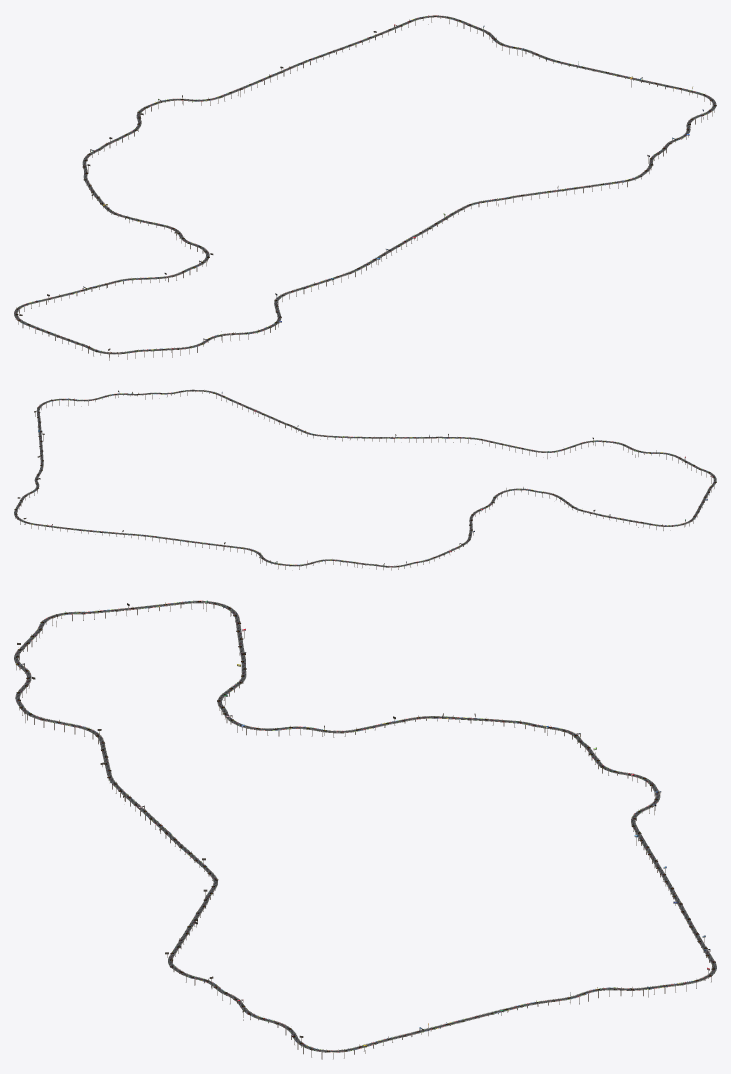
The model's file is track.glb.
The picture shows the model from 3 angles, top to bottom: view 1: azimuth 30°, elevation 25°; view 2: azimuth 150°, elevation 25°; view 3: azimuth 270°, elevation 25°; orthographic projection. The views are drawn at different scales.
Parts seen in each view (by area): view 1: track_surface, track_barriers, pylons, track_under, tubes_lamps; view 2: track_surface, track_barriers, pylons, track_under, tubes_lamps, fittings; view 3: track_surface, track_barriers, tubes_lamps, pylons, track_under, fittings.
Part boxes in pixels (x1,y1,x2,y2): track_surface: [14, 15, 716, 353]; track_barriers: [15, 15, 715, 354]; pylons: [15, 18, 714, 360]; track_under: [14, 17, 715, 354]; tubes_lamps: [15, 15, 716, 353]; track_surface: [14, 390, 716, 567]; track_barriers: [17, 390, 715, 567]; pylons: [15, 392, 714, 570]; track_under: [22, 391, 714, 567]; tubes_lamps: [14, 390, 716, 567]; fittings: [17, 389, 715, 567]; track_surface: [14, 601, 716, 1051]; track_barriers: [15, 600, 716, 1052]; tubes_lamps: [16, 601, 715, 1051]; pylons: [16, 603, 712, 1059]; track_under: [15, 601, 716, 1052]; fittings: [17, 600, 712, 1052].
Size of the model in its own units: 3994 by 72.02 by 2622.
69 materials, 56 textured.
